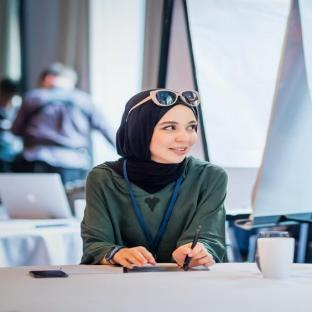Human: (81, 89, 226, 269)
